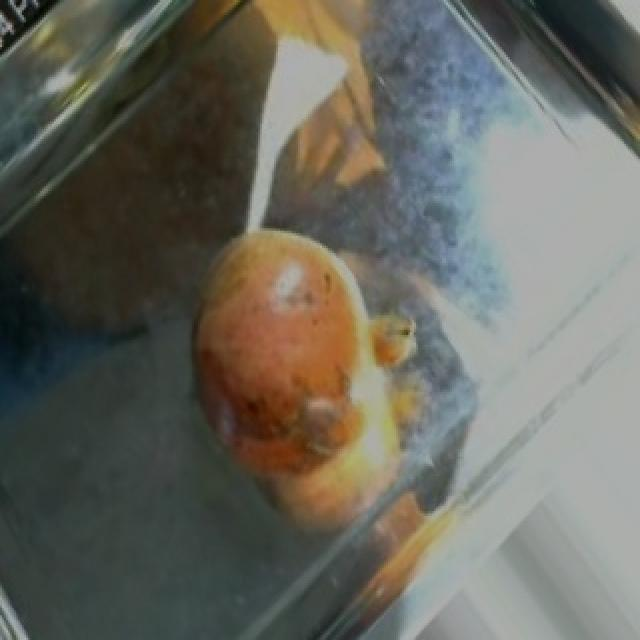fruit: (164, 196, 430, 461)
